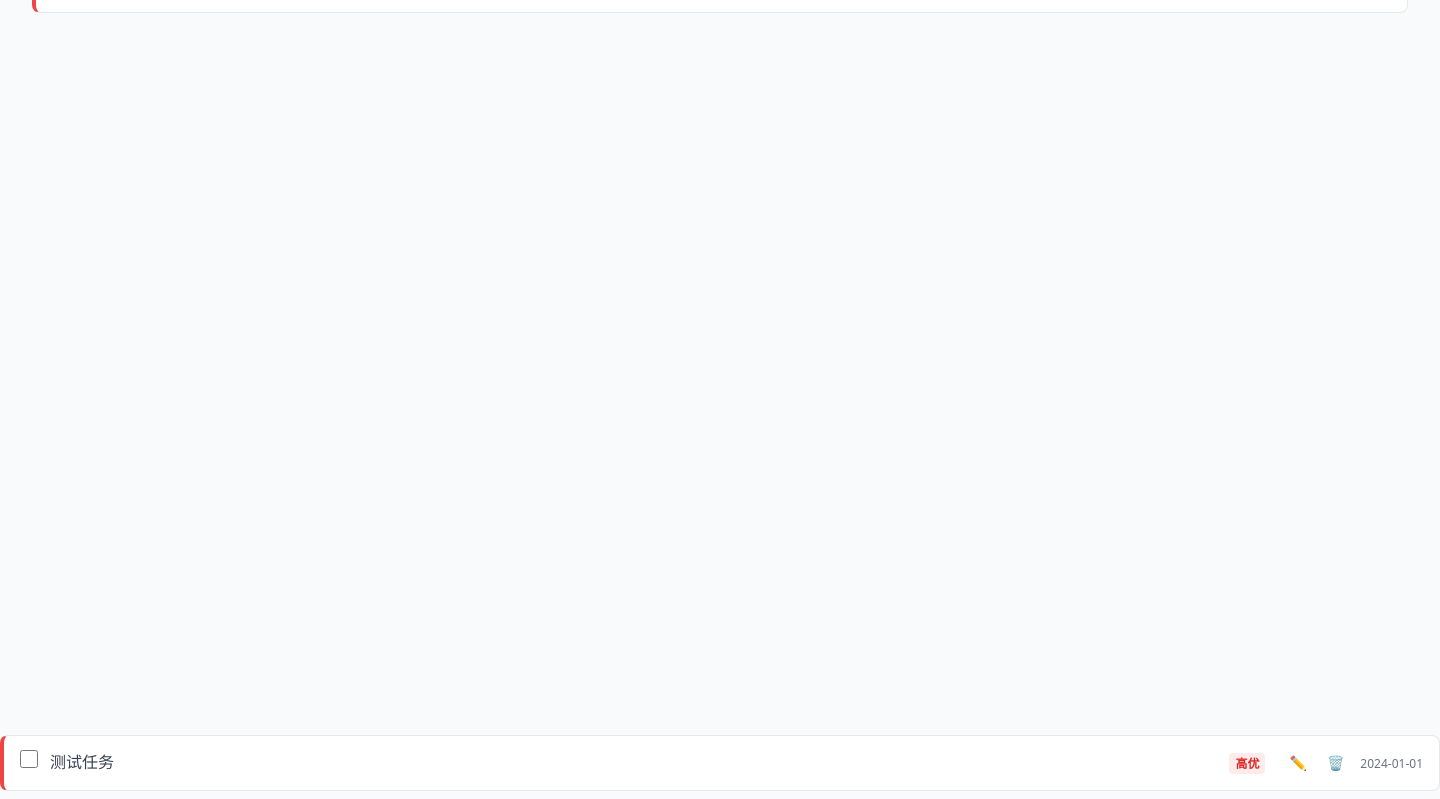
Test: TaskItem Component › 3.3 TaskItem 编辑模式测试 › test_task_item_enter_edit_mode - 验证进入编辑模式的逻辑
(page scrolled)
// 双击进入编辑模式
Double-click the 2nd text with test id "task-text" at (82, 762), box x1=50 y1=751 x2=114 y2=773
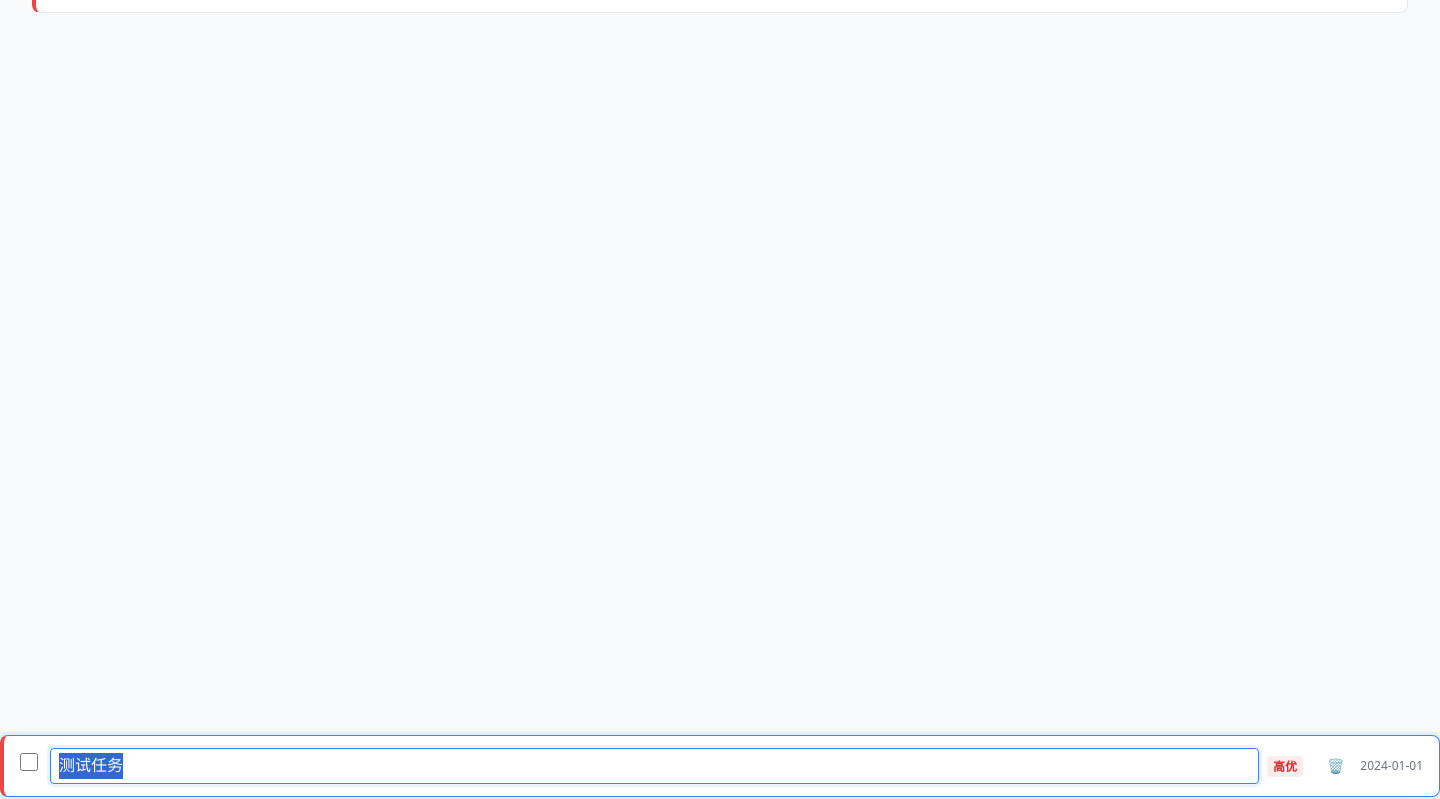
Check: the field with test id "edit-input" holds "测试任务", box x1=50 y1=748 x2=1259 y2=784
